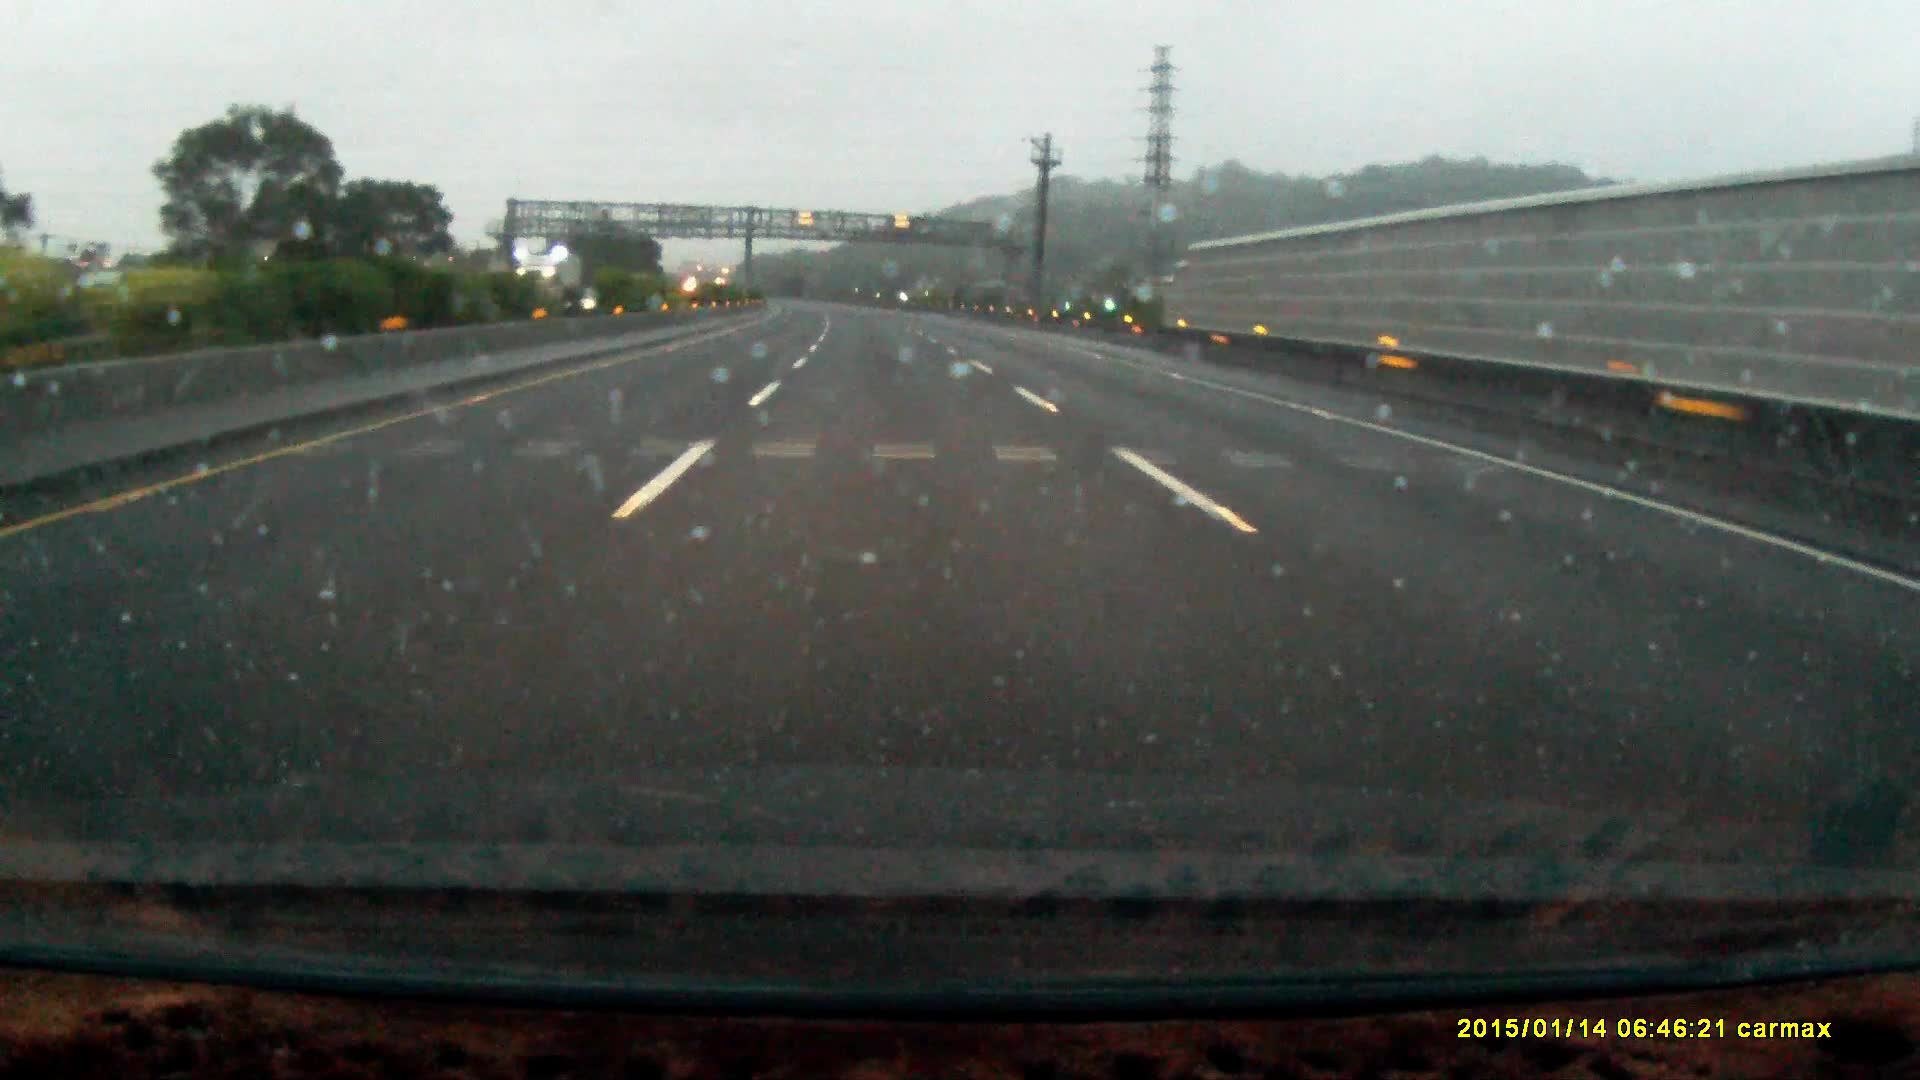vehicle: (513, 257, 583, 318)
